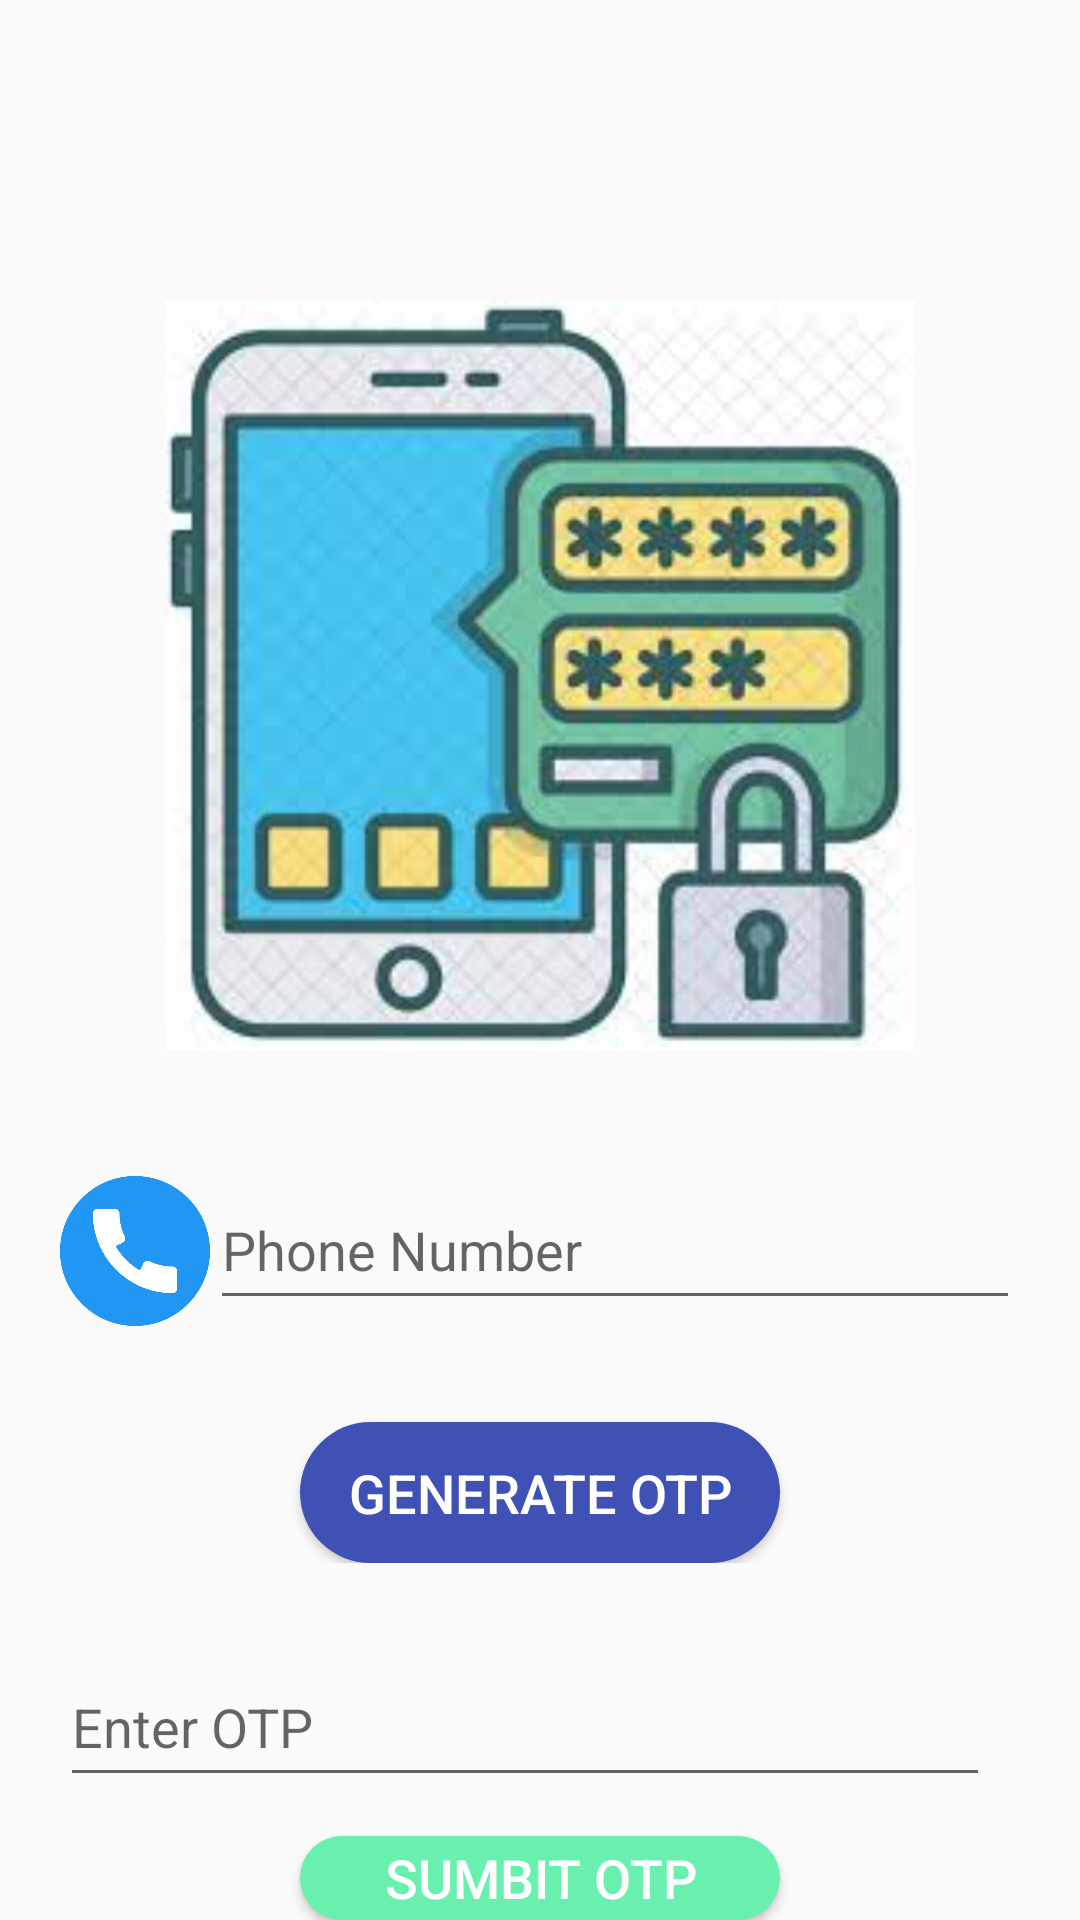

Named icons in this screenshot (1080x1920) and their centers, [x,y]:
call: [135,1251]
